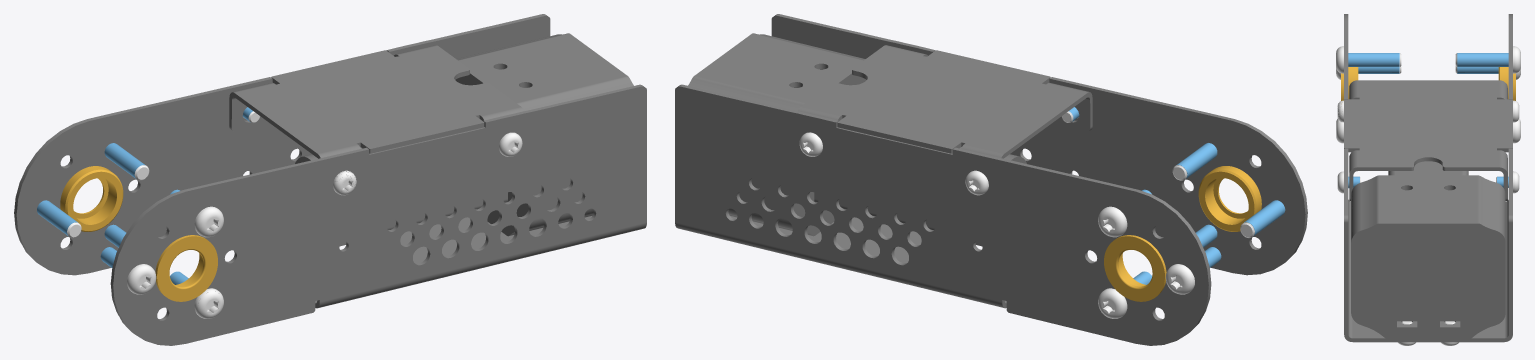
3 views of the same model, side by side, from view 1: azimuth 30°, elevation 25°; view 2: azimuth 150°, elevation 25°; view 3: azimuth 270°, elevation 25° (orthographic). The views are drawn at different scales.
Parts seen in each view (by area): view 1: J4-ORI.SLDPRT; view 2: J4-ORI.SLDPRT; view 3: J4-ORI.SLDPRT.
Boxes of the visible parts, x1=… form: J4-ORI.SLDPRT: x1=14, y1=14, x2=646, y2=345; J4-ORI.SLDPRT: x1=675, y1=14, x2=1307, y2=345; J4-ORI.SLDPRT: x1=1336, y1=14, x2=1520, y2=345.
Size of the model in its own units: 0.184 by 0.0522 by 0.0645.
